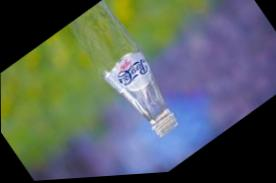glass: (72, 0, 183, 136)
